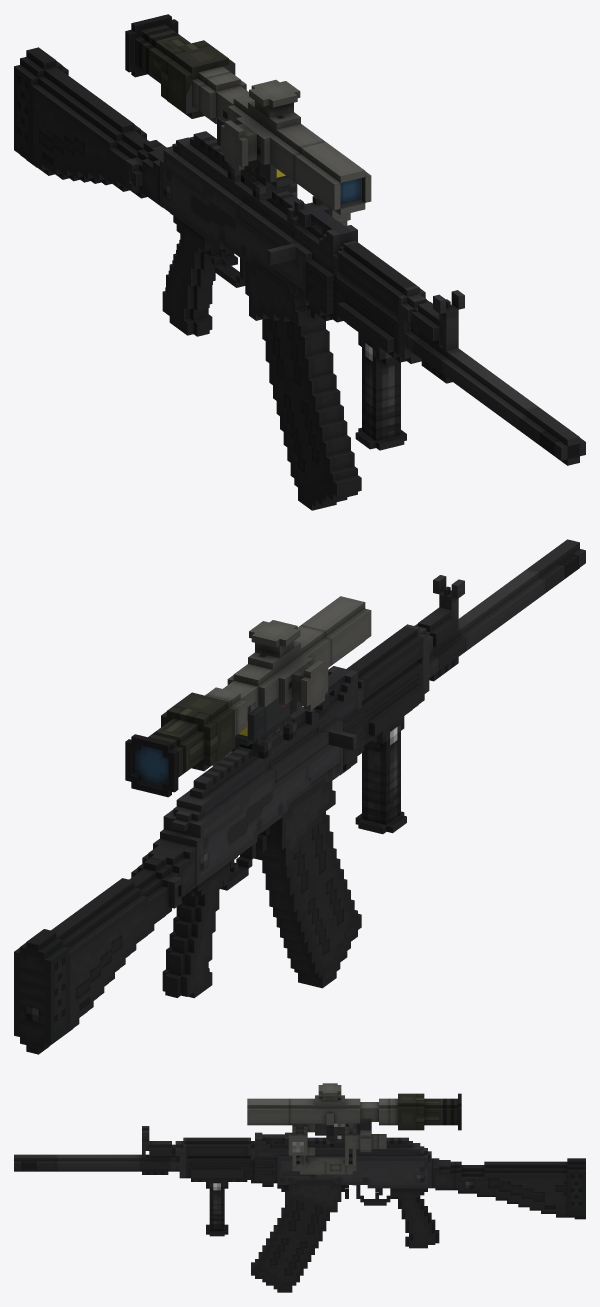
Rendered from RD_SAIGA_GOLD.glb.
3 views of the same model, one above another, from view 1: azimuth 30°, elevation 25°; view 2: azimuth 150°, elevation 25°; view 3: azimuth 270°, elevation 25° (orthographic). The views are drawn at different scales.
Visible parts, largest first — view 1: SAIGA12, SCOPE_PSO1, SAIGA12_CLIP, GRIP1, SCOPE_TASCO; view 2: SAIGA12, SCOPE_PSO1, SAIGA12_CLIP, GRIP1, SCOPE_TASCO; view 3: SAIGA12, SCOPE_PSO1, SAIGA12_CLIP, GRIP1, SCOPE_TASCO.
Part boxes in pixels (x1=…): SAIGA12: x1=14, y1=47, x2=585, y2=465; SCOPE_PSO1: x1=125, y1=14, x2=371, y2=225; SAIGA12_CLIP: x1=262, y1=318, x2=361, y2=510; GRIP1: x1=347, y1=323, x2=406, y2=450; SCOPE_TASCO: x1=217, y1=110, x2=296, y2=200; SAIGA12: x1=14, y1=539, x2=585, y2=1054; SCOPE_PSO1: x1=125, y1=596, x2=371, y2=797; SAIGA12_CLIP: x1=262, y1=811, x2=361, y2=988; GRIP1: x1=355, y1=709, x2=412, y2=834; SCOPE_TASCO: x1=231, y1=697, x2=301, y2=759; SAIGA12: x1=14, y1=1126, x2=585, y2=1248; SCOPE_PSO1: x1=247, y1=1083, x2=461, y2=1174; SAIGA12_CLIP: x1=251, y1=1198, x2=329, y2=1292; GRIP1: x1=191, y1=1180, x2=247, y2=1236; SCOPE_TASCO: x1=315, y1=1118, x2=371, y2=1147.
Bounding box in the file's own units: 0.1378 × 0.5807 × 1.5.
Materials: 7 (7 with a texture image).
